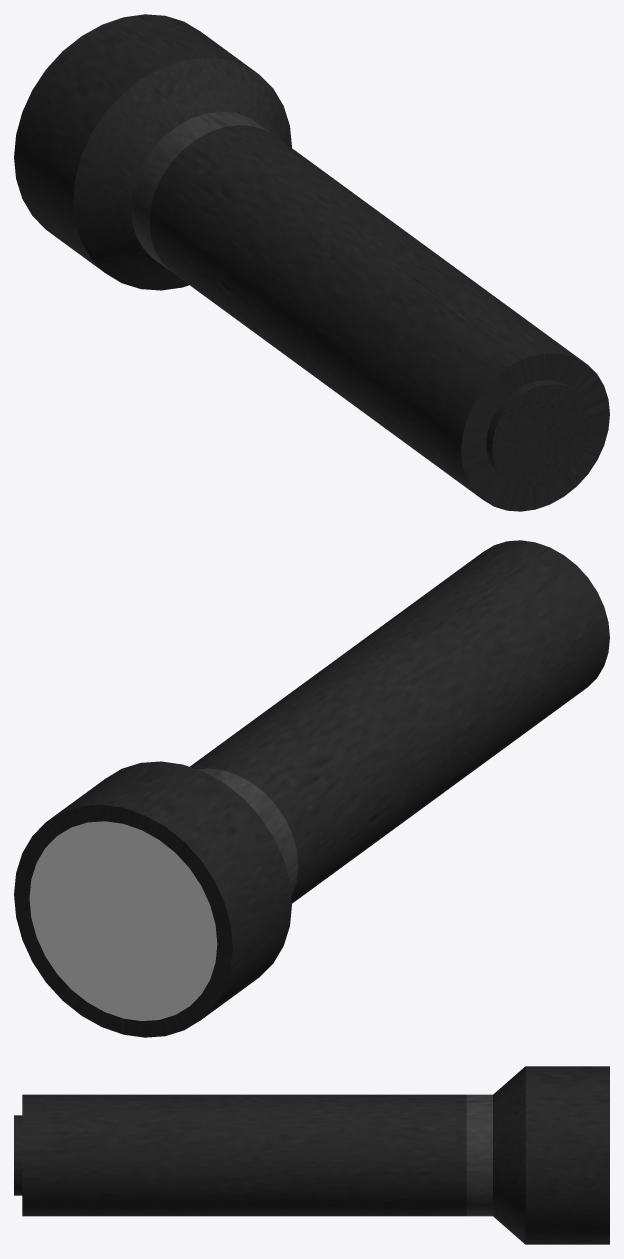
File: flashlight.fbx
3 views of the same model, one above another, from view 1: azimuth 30°, elevation 25°; view 2: azimuth 150°, elevation 25°; view 3: azimuth 270°, elevation 25° (orthographic). The views are drawn at different scales.
Visible parts, largest first — view 1: Cylinder; view 2: Cylinder; view 3: Cylinder.
Part boxes in pixels (box(x1,y1,x2,y2)): Cylinder: box(14, 14, 609, 511); Cylinder: box(14, 540, 609, 1037); Cylinder: box(14, 1066, 609, 1244).
Bounding box in the file's own units: 25.12 × 24.88 × 83.08.
